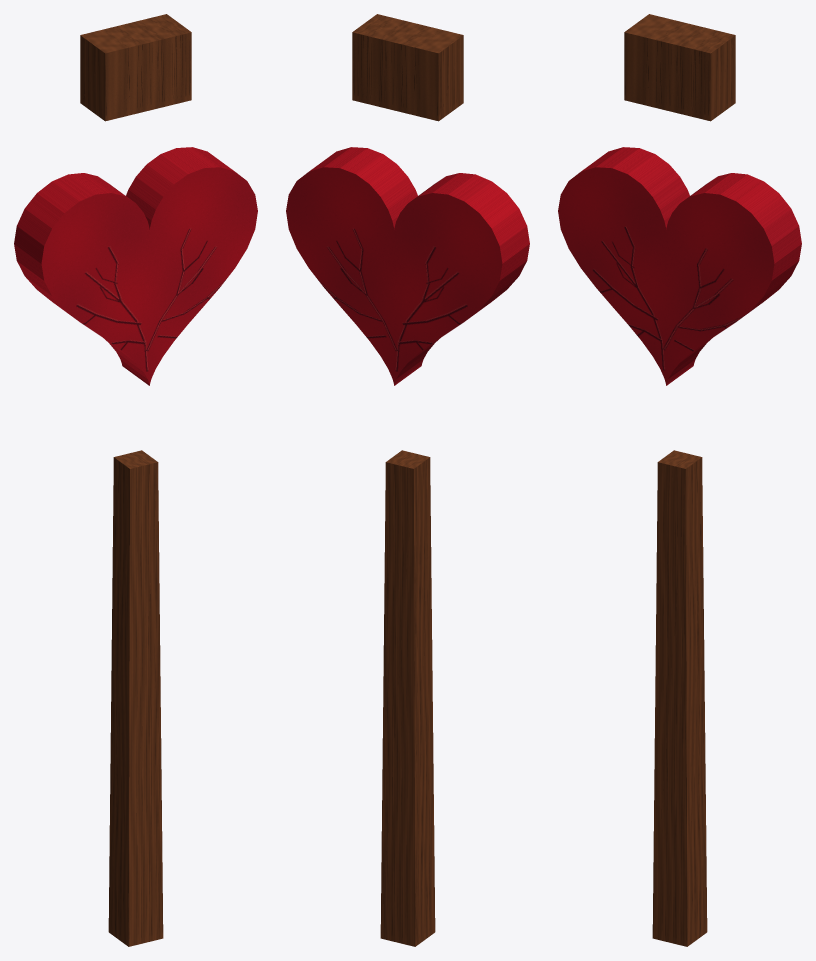
Rendered from BaculoMagico.dae.
The picture shows the model from 3 angles, left to right: view 1: azimuth 30°, elevation 25°; view 2: azimuth 150°, elevation 25°; view 3: azimuth 330°, elevation 25°; orthographic projection.
Parts seen in each view (by area): view 1: BaculoMagico; view 2: BaculoMagico; view 3: BaculoMagico.
Boxes of the visible parts, left/top/right/bottom form: BaculoMagico: left=14, top=14, right=257, bottom=946; BaculoMagico: left=286, top=14, right=529, bottom=946; BaculoMagico: left=558, top=14, right=801, bottom=946.
Size of the model in its own units: 0.2513 by 1 by 0.0553.
